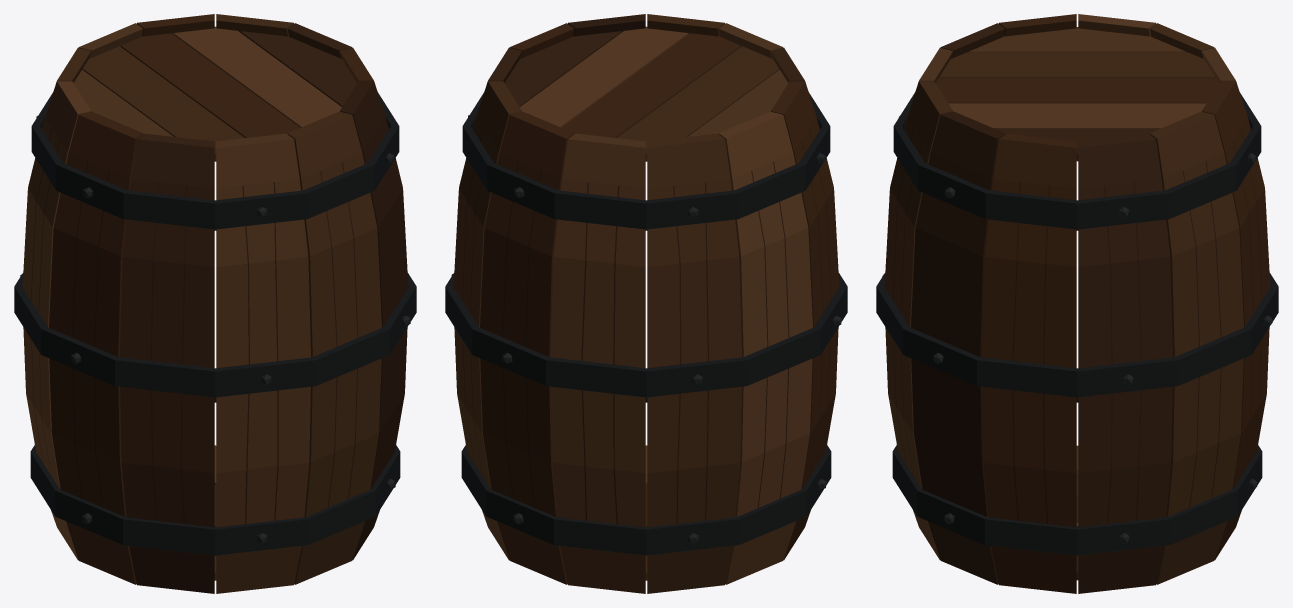
The model's file is Barrel_Large.fbx.
3 renders of one model, left to right at view 1: azimuth 30°, elevation 25°; view 2: azimuth 150°, elevation 25°; view 3: azimuth 270°, elevation 25°, orthographic.
Visible parts, largest first — view 1: Barrel_Large; view 2: Barrel_Large; view 3: Barrel_Large.
Boxes of the visible parts, x1=… form: Barrel_Large: x1=14, y1=14, x2=416, y2=593; Barrel_Large: x1=445, y1=14, x2=847, y2=593; Barrel_Large: x1=876, y1=14, x2=1278, y2=593.
Bounding box in the file's own units: 0.916 × 1.12 × 0.916.
Materials: 2 (2 with a texture image).
